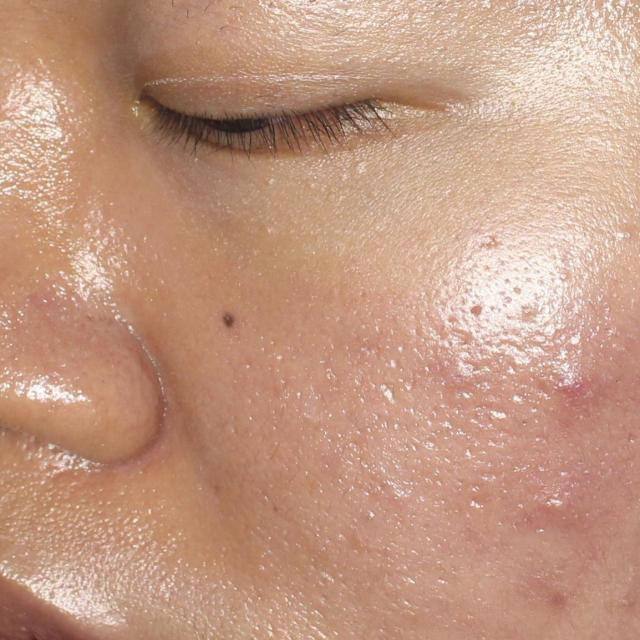blackhead: (219, 309, 242, 332)
